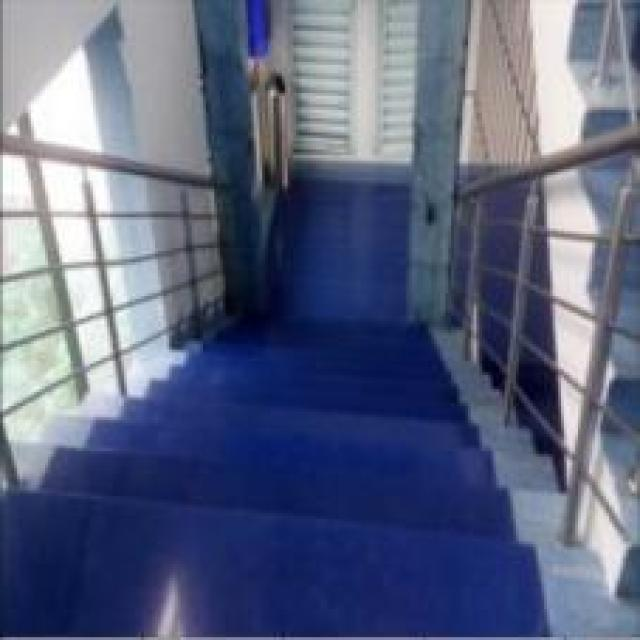downstair: (46, 356, 497, 585)
